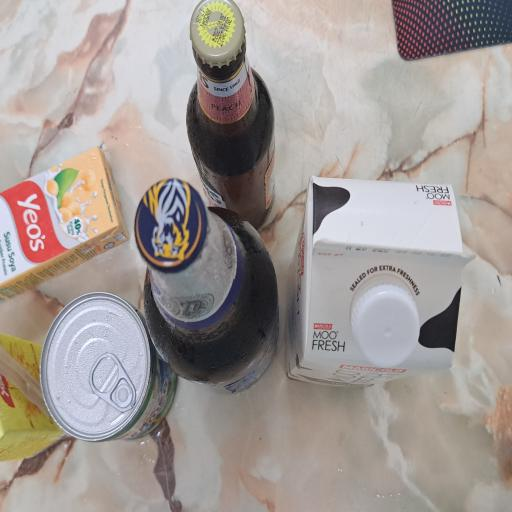can: (49, 51, 165, 232)
drink carton: (154, 0, 276, 169), (95, 380, 251, 512), (34, 0, 142, 86)
glass bottle: (94, 178, 252, 378), (215, 246, 384, 370)
plastic bottle cap: (104, 468, 168, 512)
pop tab: (71, 111, 119, 183)
